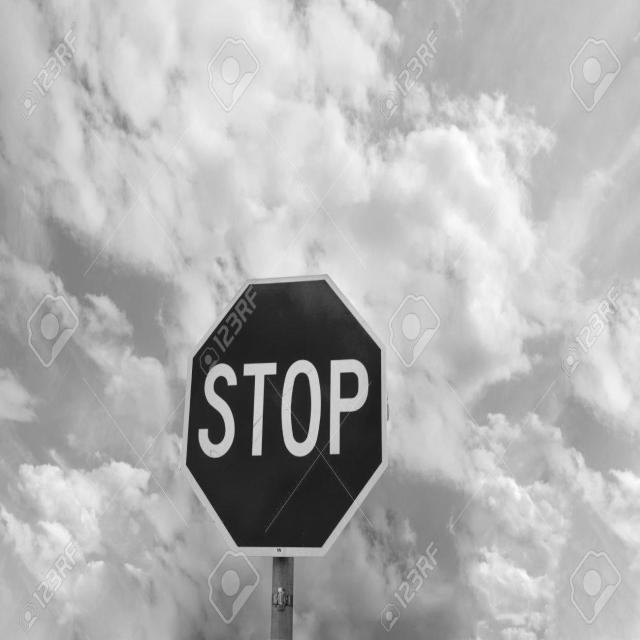Stop-sign: (172, 250, 402, 564)
